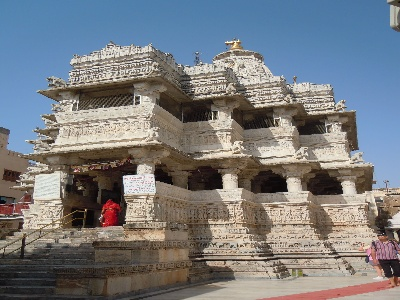mandapa: (121, 131, 236, 205), (244, 143, 375, 207), (232, 92, 357, 135)
